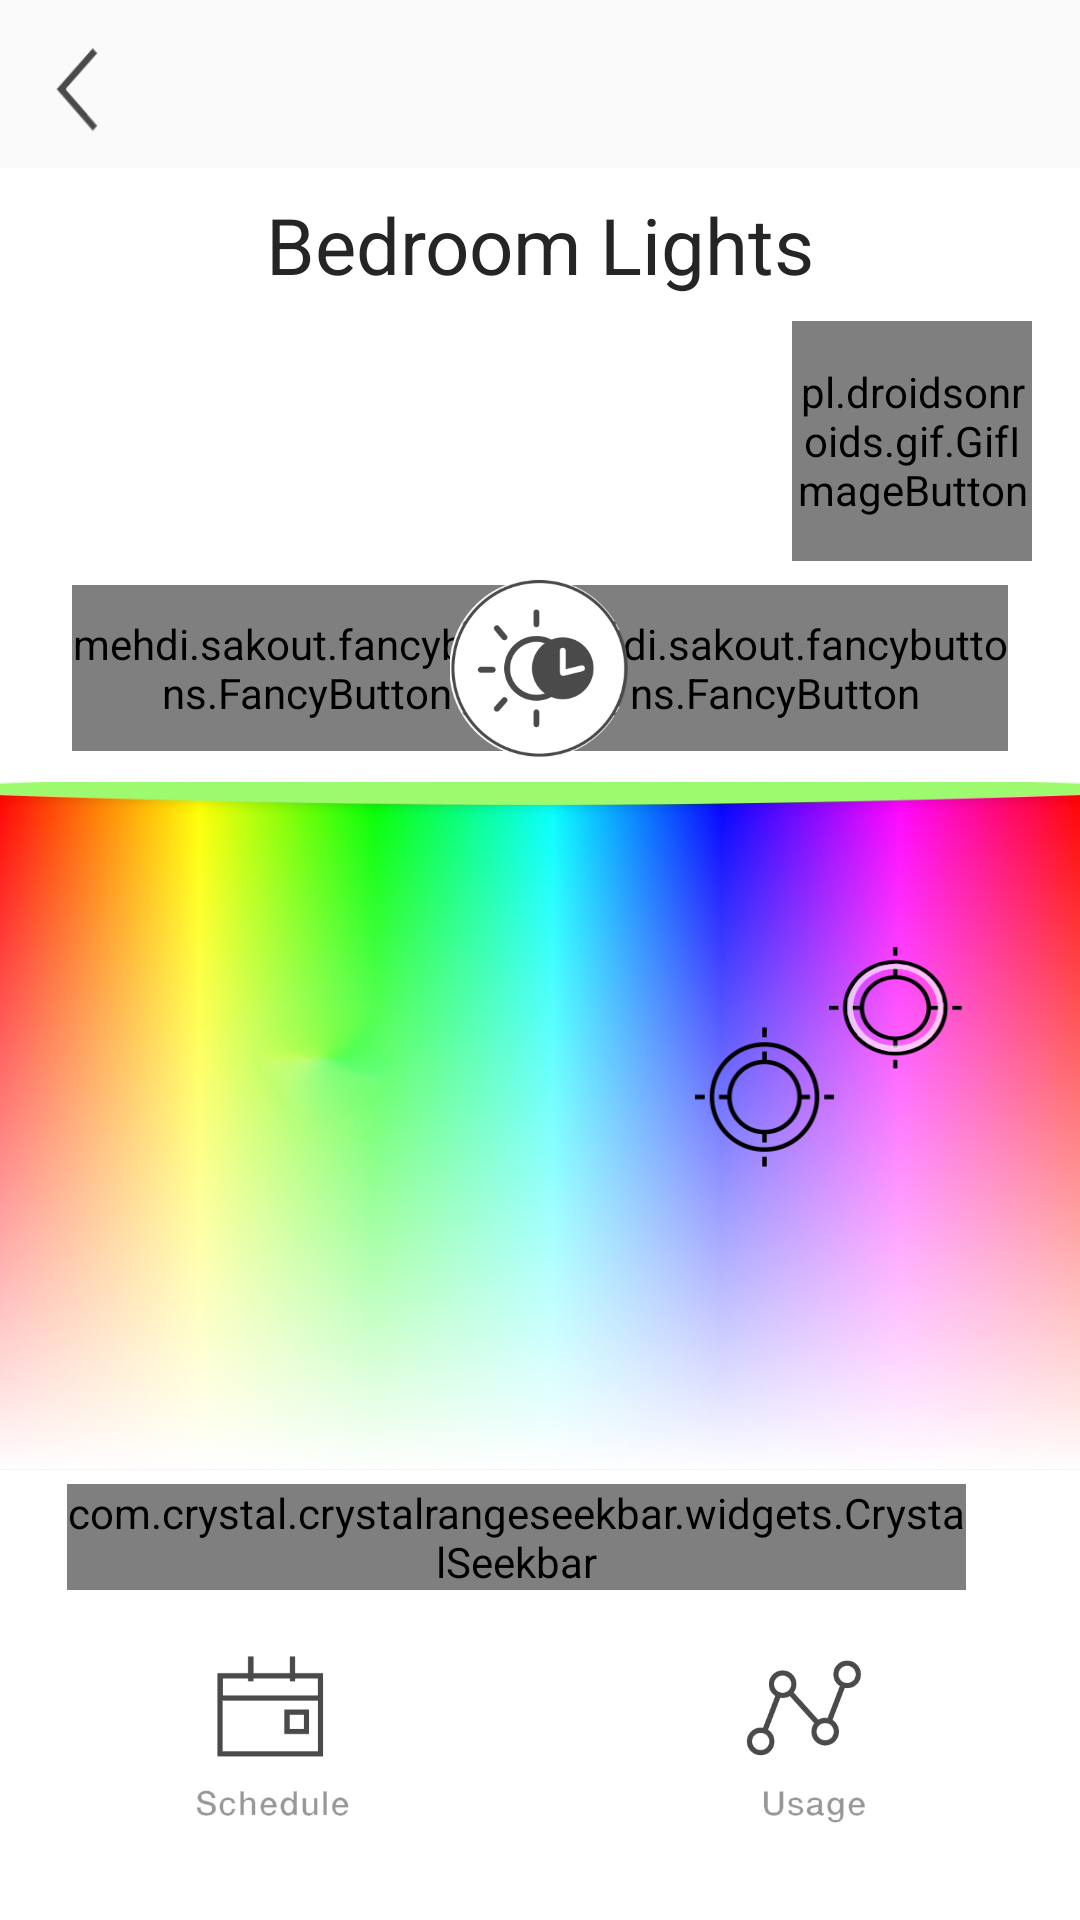

Point at icon controls on the screen. Image size 1080×1920, points as (x,y).
cursor: (765,1097)
